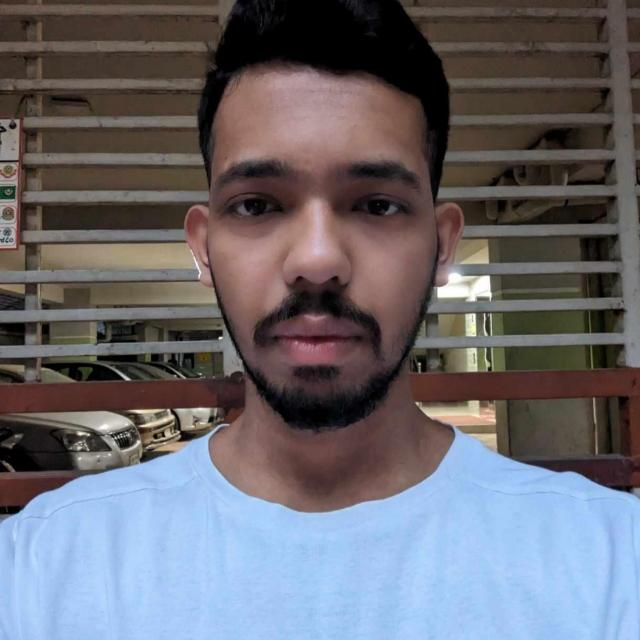Natural: (155, 86, 498, 444)
